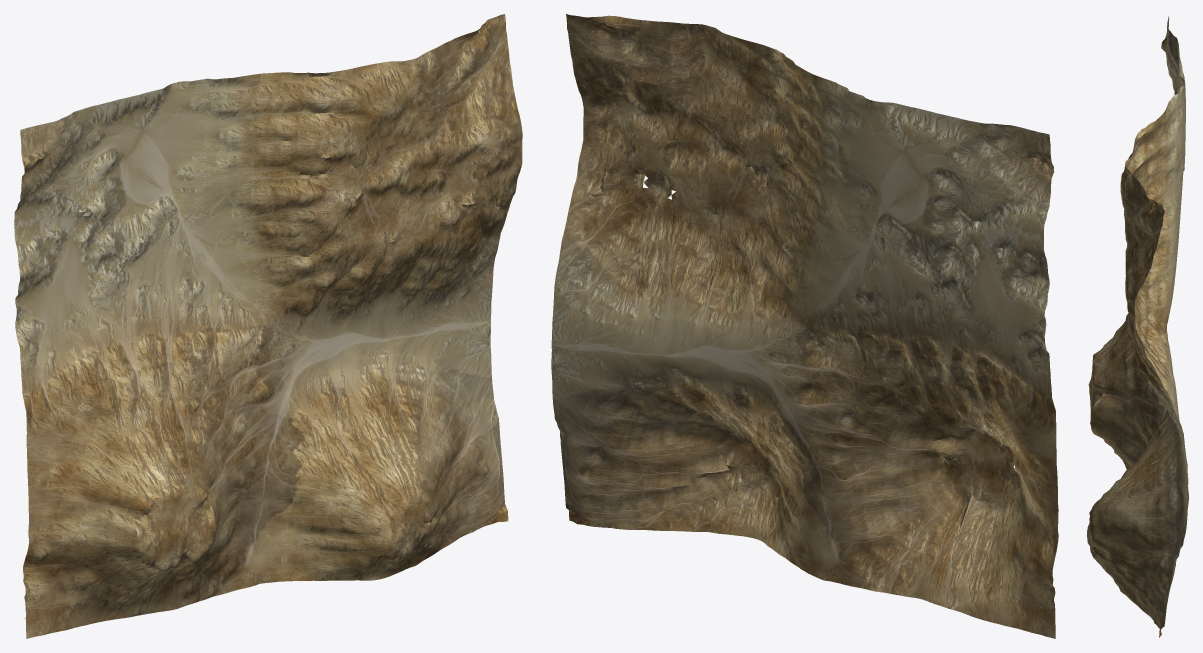
File: monument_terrain.glb
3 renders of one model, left to right at view 1: azimuth 30°, elevation 25°; view 2: azimuth 150°, elevation 25°; view 3: azimuth 270°, elevation 25°, orthographic. The views are drawn at different scales.
Parts seen in each view (by area): view 1: _gltfNode_0; view 2: _gltfNode_0; view 3: _gltfNode_0.
Part boxes in pixels (x1,y1,x2,y2): _gltfNode_0: (14,14,522,638); _gltfNode_0: (551,14,1058,638); _gltfNode_0: (1087,16,1188,637).
Size of the model in its own units: 1 by 1 by 0.2168.
Materials: 1 (1 with a texture image).
